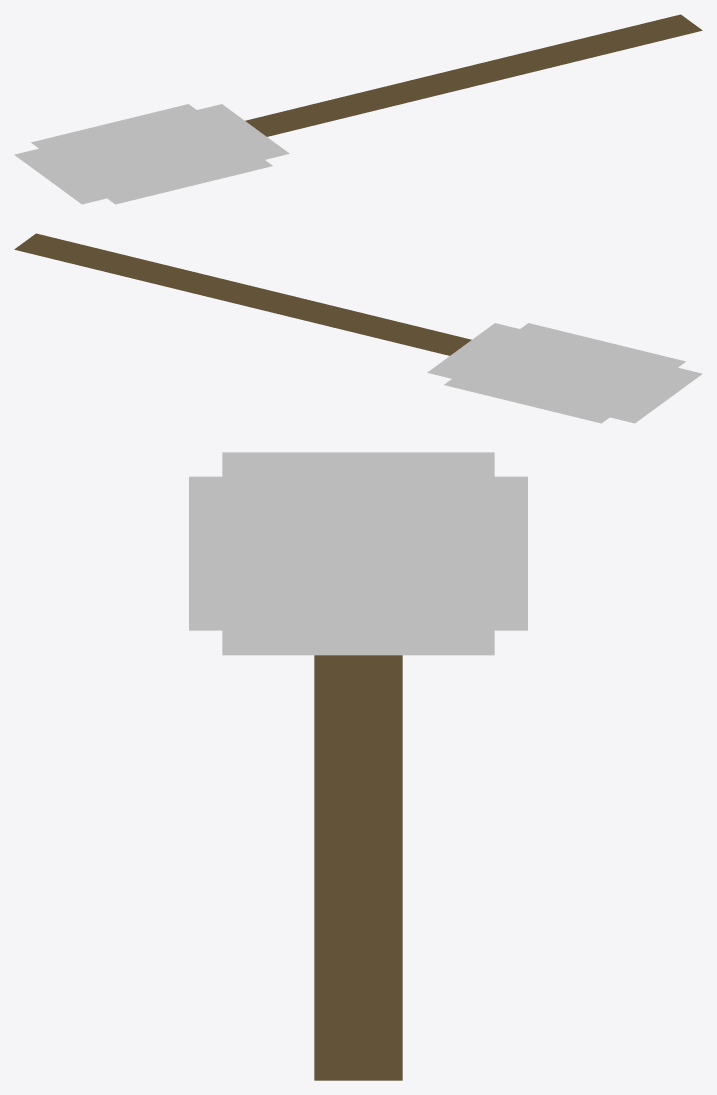
Rendered from spoon.fbx.
3 renders of one model, top to bottom at view 1: azimuth 30°, elevation 25°; view 2: azimuth 150°, elevation 25°; view 3: azimuth 270°, elevation 25°, orthographic. The views are drawn at different scales.
Visible parts, largest first — view 1: spoon; view 2: spoon; view 3: spoon.
Part boxes in pixels (box(x1,y1,x2,y2)): spoon: box(14, 14, 702, 204); spoon: box(14, 233, 702, 423); spoon: box(189, 452, 527, 1080).
Size of the model in its own units: 41.55 by 1.54e-06 by 9.48.
